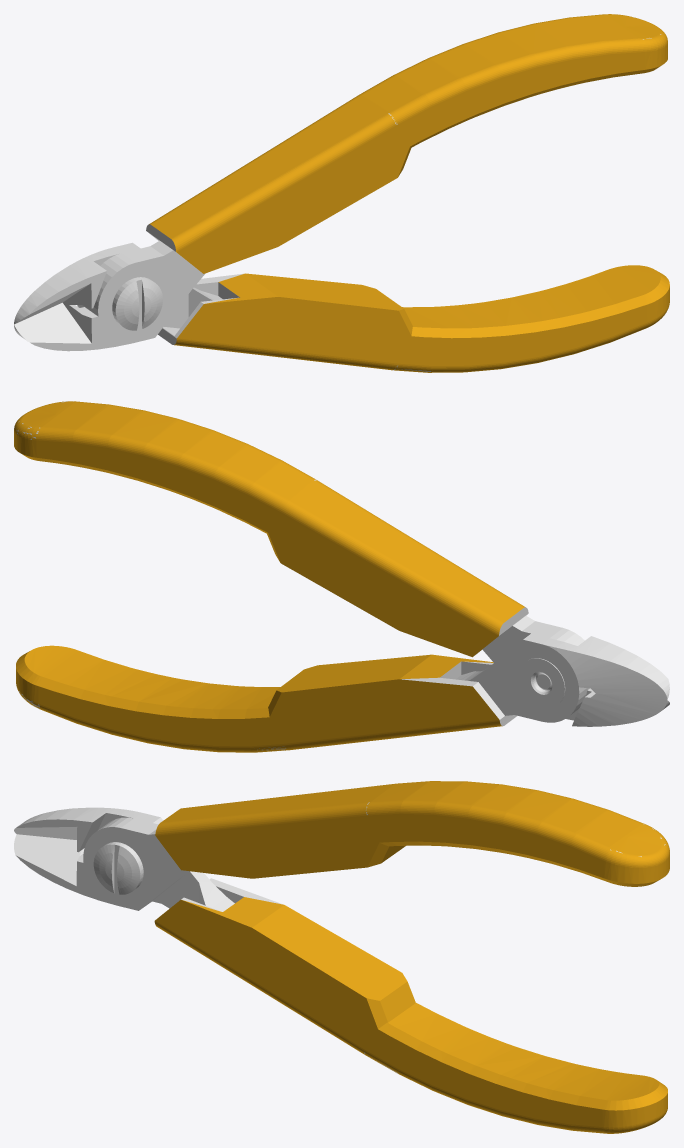
File: tang.fbx
The picture shows the model from 3 angles, top to bottom: view 1: azimuth 30°, elevation 25°; view 2: azimuth 150°, elevation 25°; view 3: azimuth 330°, elevation 25°; orthographic projection.
Visible parts, largest first — view 1: User Library-LINDSTROM 8150; view 2: User Library-LINDSTROM 8150; view 3: User Library-LINDSTROM 8150.
Boxes of the visible parts, x1,y1,x2,y2 form: User Library-LINDSTROM 8150: (14,14,669,372); User Library-LINDSTROM 8150: (14,401,669,752); User Library-LINDSTROM 8150: (14,781,669,1133).
Bounding box in the file's own units: 10947 × 4927 × 1330.
